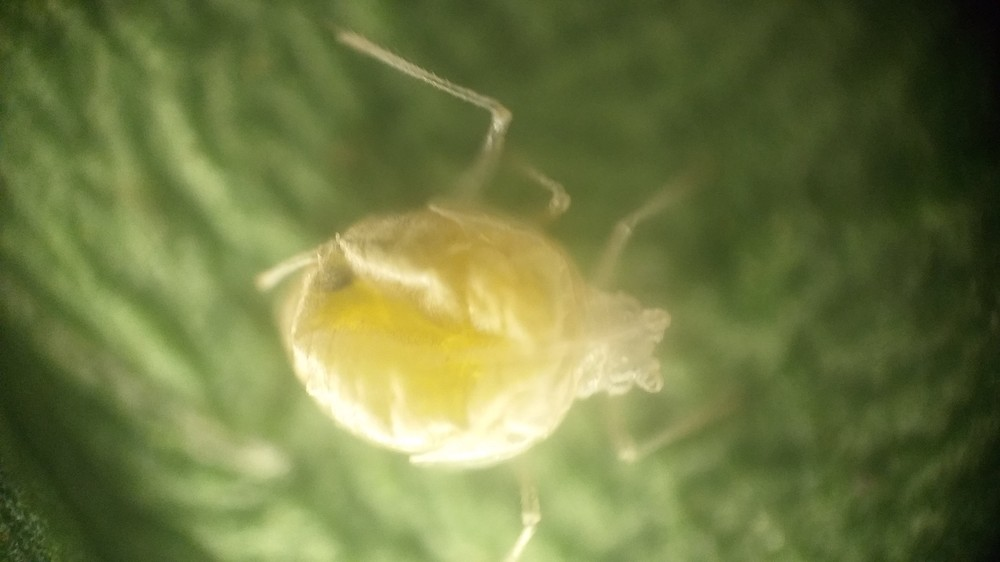Pulgon: (196, 28, 748, 558)
